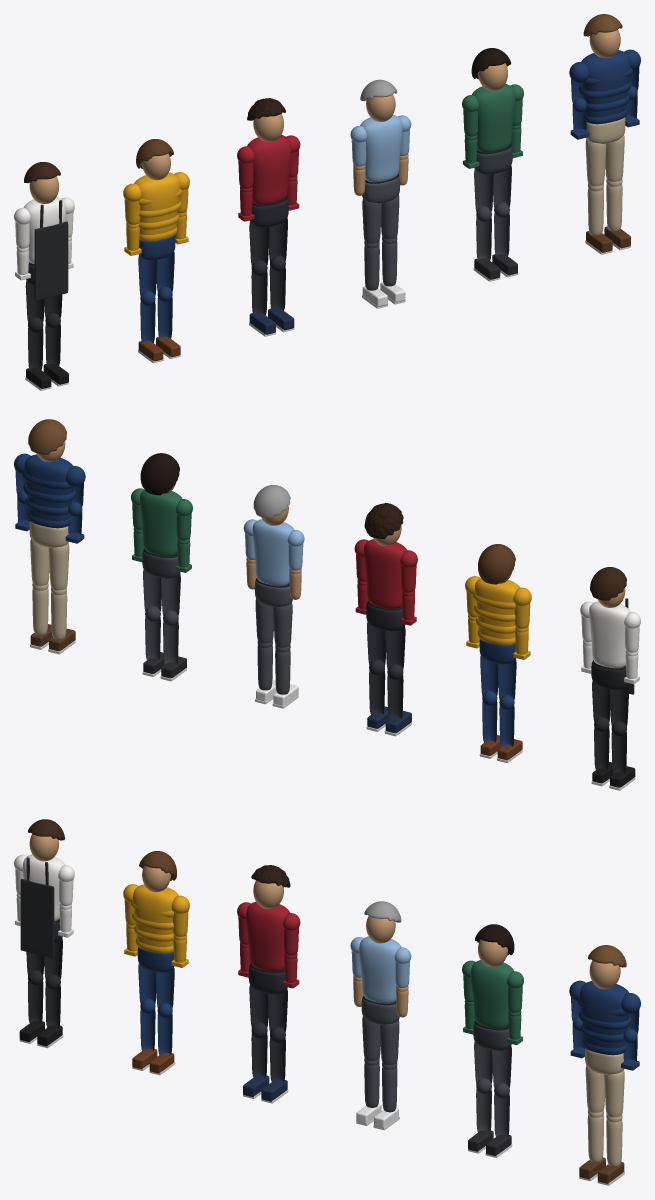
The model's file is personas.glb.
The picture shows the model from 3 angles, top to bottom: view 1: azimuth 30°, elevation 25°; view 2: azimuth 150°, elevation 25°; view 3: azimuth 330°, elevation 25°; orthographic projection.
Visible parts, largest first — view 1: cajera.delantal, rulos.torso, verde.torso, canoso.torso, azul.torso, campera.torso, cajera.torso, azul.musloD, rulos.cadera, azul.cadera, canoso.musloD, azul.musloI (+34 smaller); view 2: rulos.torso, verde.torso, canoso.torso, cajera.torso, azul.torso, campera.torso, verde.pelo, campera.pelo, rulos.pelo, azul.pelo, canoso.pelo, cajera.pelo (+30 smaller); view 3: cajera.delantal, rulos.torso, verde.torso, canoso.torso, azul.torso, campera.torso, cajera.torso, azul.musloI, rulos.cadera, canoso.musloI, azul.musloD, azul.cadera (+34 smaller).
Part boxes in pixels (box(x1,y1,x2,y2)): cajera.delantal: box(34, 221, 68, 300); rulos.torso: box(247, 135, 291, 204); verde.torso: box(472, 83, 515, 152); canoso.torso: box(360, 115, 402, 182); azul.torso: box(581, 50, 630, 117); campera.torso: box(134, 172, 180, 234); cajera.torso: box(23, 197, 66, 263); azul.musloD: box(585, 139, 606, 186); rulos.cadera: box(249, 199, 288, 227); azul.cadera: box(586, 117, 625, 143); canoso.musloD: box(362, 199, 381, 243); azul.musloI: box(605, 135, 624, 181); rulos.torso: box(364, 539, 406, 608); verde.torso: box(140, 490, 182, 556); canoso.torso: box(252, 519, 294, 586); cajera.torso: box(589, 601, 630, 668); azul.torso: box(24, 454, 74, 521); campera.torso: box(475, 578, 519, 638); verde.pelo: box(140, 453, 179, 495); campera.pelo: box(478, 544, 515, 584); rulos.pelo: box(364, 503, 403, 538); azul.pelo: box(28, 419, 66, 454); canoso.pelo: box(253, 485, 290, 518); cajera.pelo: box(590, 567, 626, 600); cajera.delantal: box(20, 879, 54, 957); rulos.torso: box(246, 901, 290, 971); verde.torso: box(470, 960, 513, 1028); canoso.torso: box(359, 936, 401, 1003); azul.torso: box(579, 981, 628, 1048); campera.torso: box(132, 884, 178, 947); cajera.torso: box(22, 854, 64, 921); azul.musloI: box(604, 1070, 624, 1117); rulos.cadera: box(248, 965, 287, 994); canoso.musloI: box(380, 1020, 399, 1065); azul.musloD: box(585, 1066, 604, 1112); azul.cadera: box(585, 1048, 624, 1074).
Bounding box in the file's own units: 5.57 × 1.93 × 0.3614.
